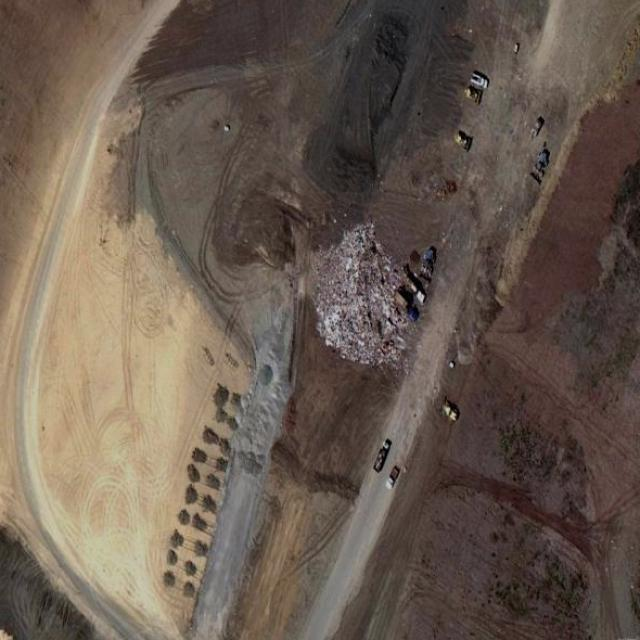dump_site: (303, 211, 429, 384)
